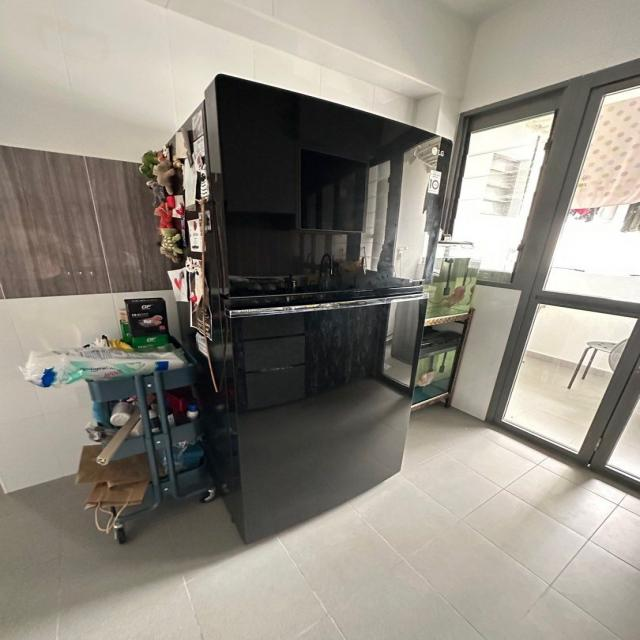refrigerator: (202, 72, 429, 545)
